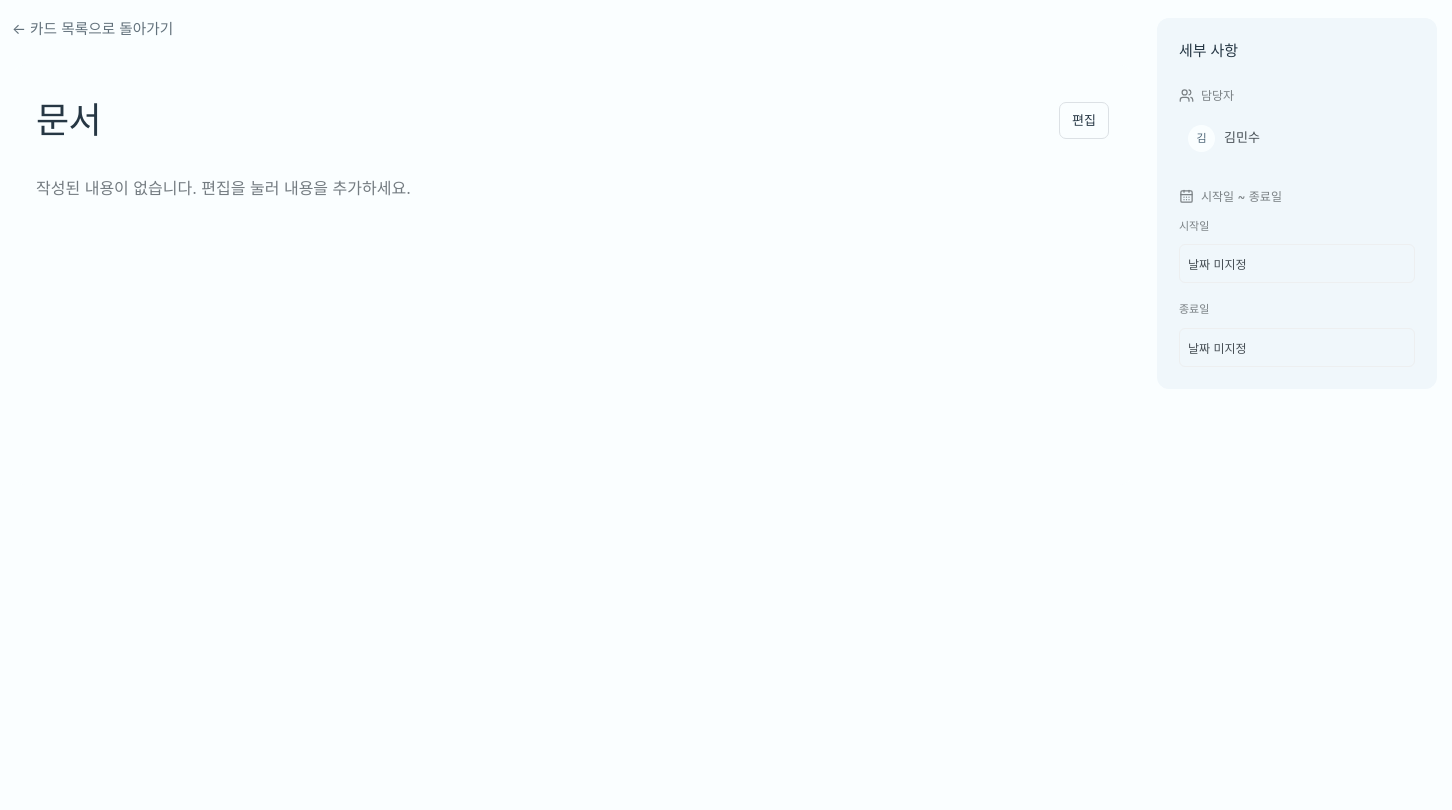
Test: markdown_editor › toolbar_format_기울임_ok
The width and height of the screenshot is (1452, 810).
Click the button "편집".
click(1084, 120)  # box 1059,102 -> 1109,139
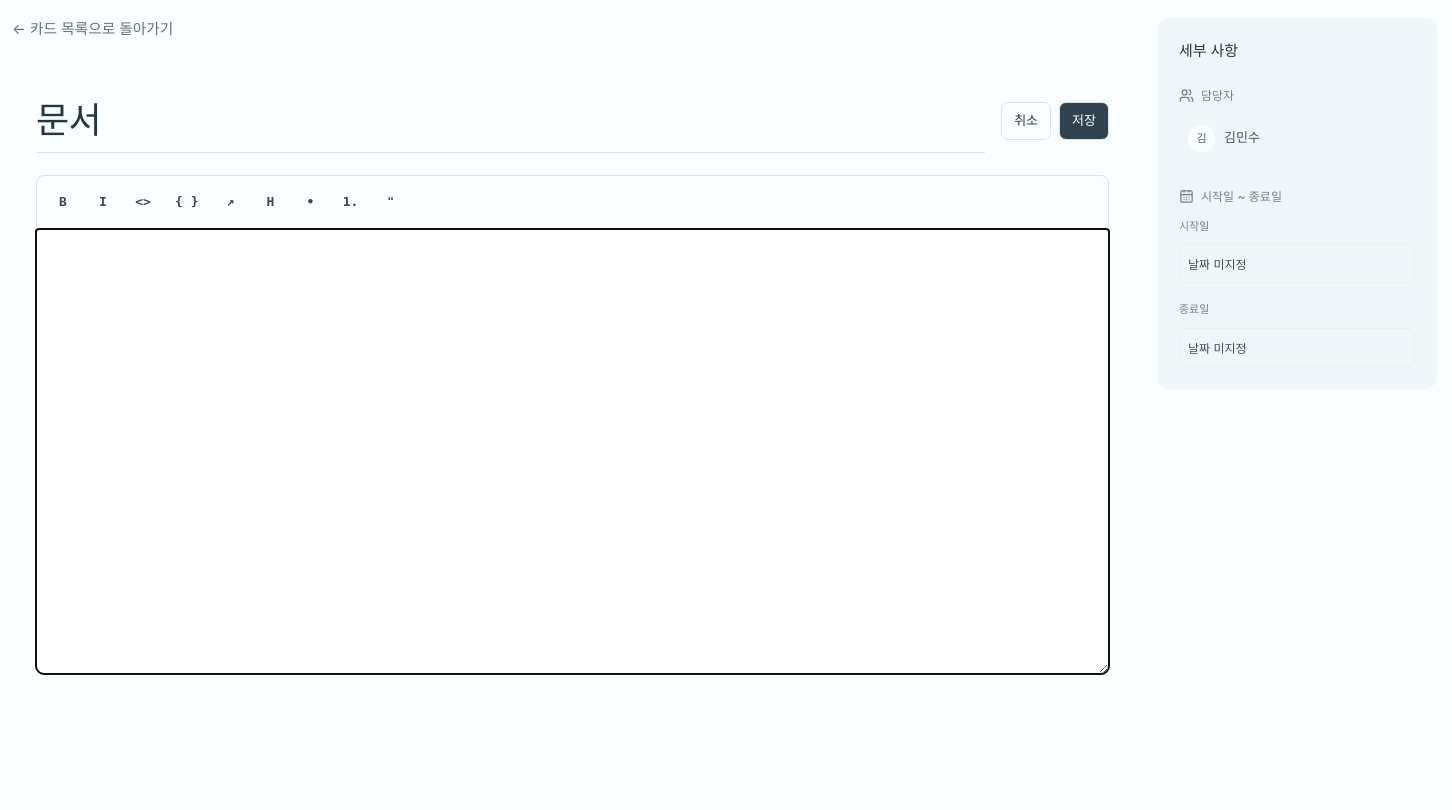
Type "word" into the text box named "Markdown 작성".
click(572, 452); type("word")  # box 36,229 -> 1109,674
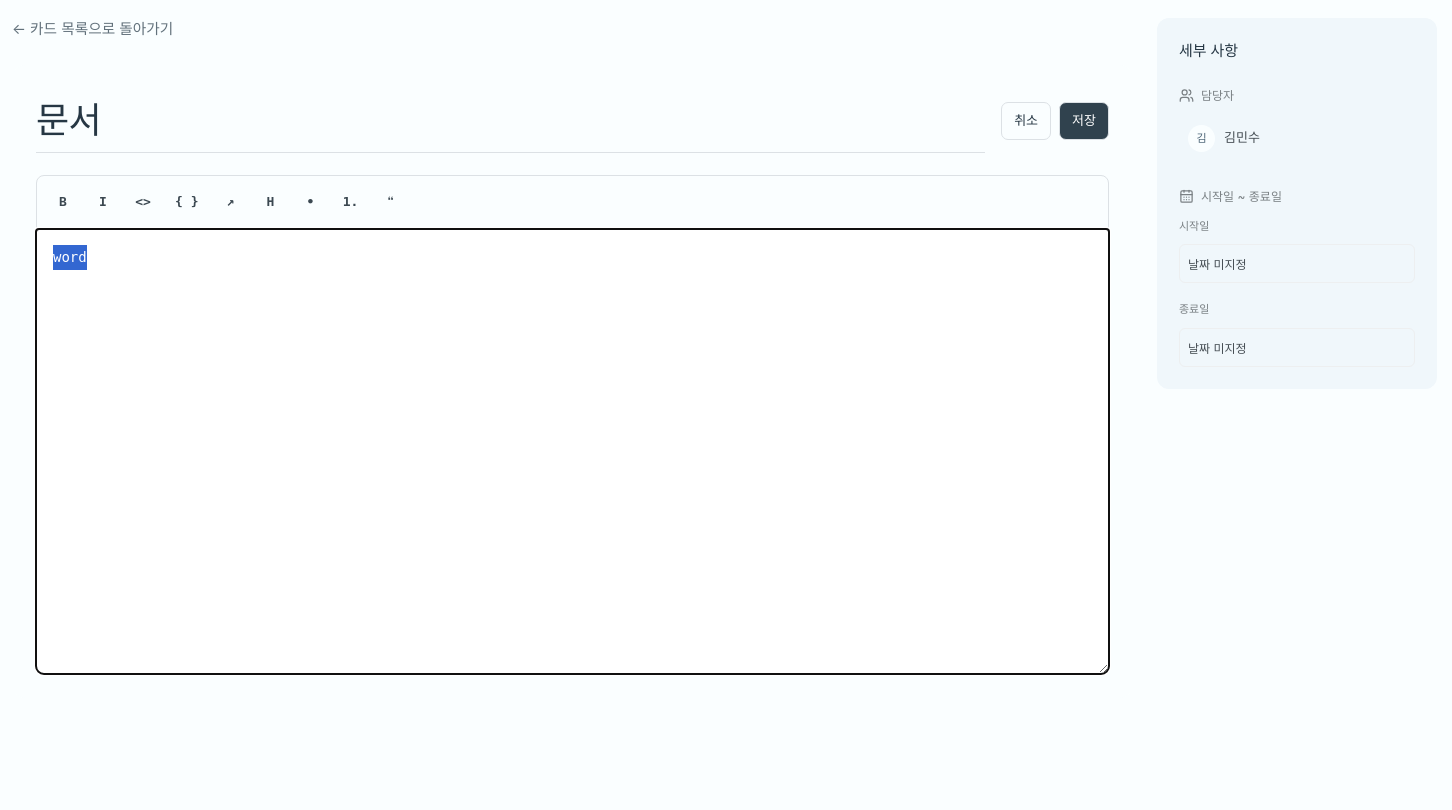
Click the button named "기울임".
click(103, 202)  # box 85,184 -> 121,220
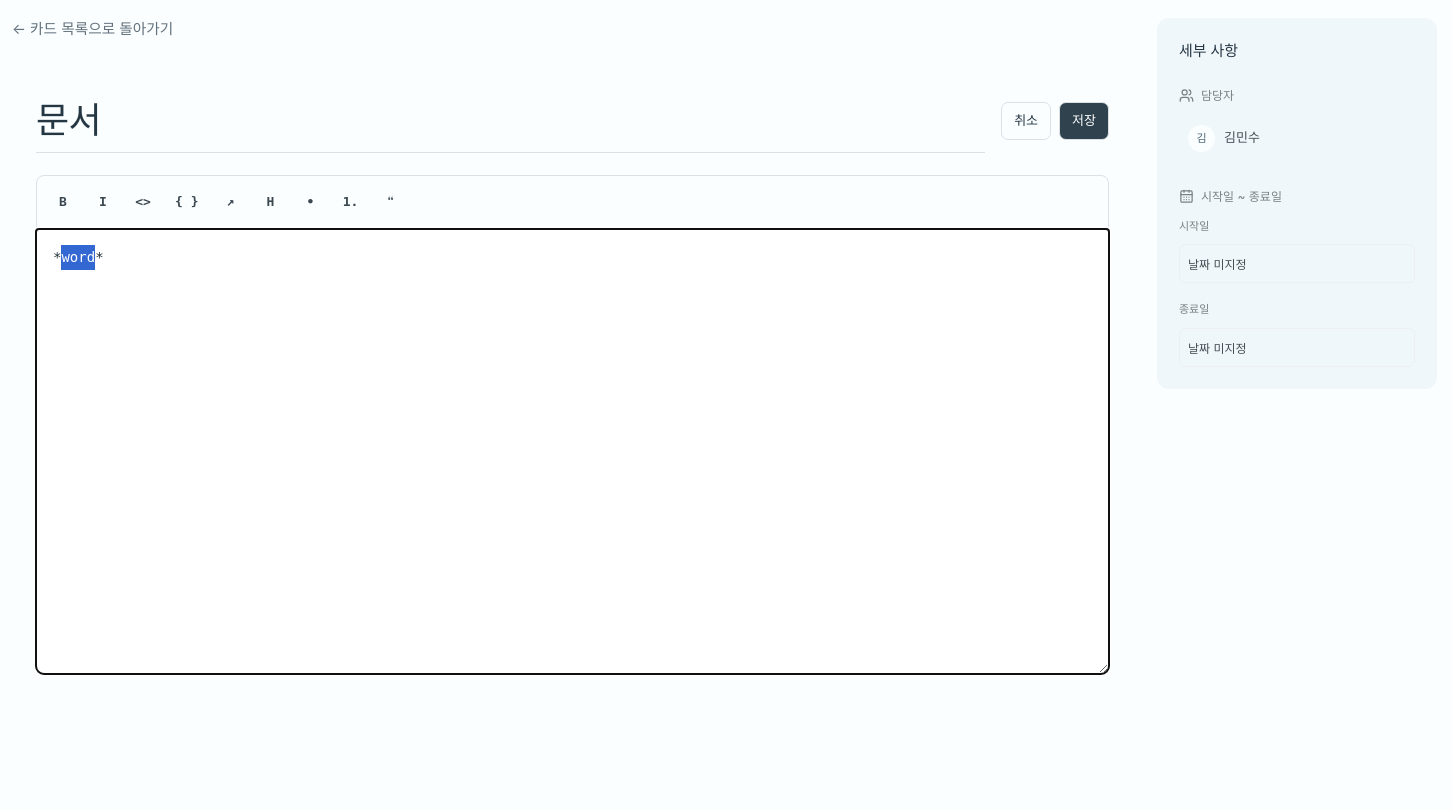
Now the text box named "Markdown 작성" holds "*word*", box 36,229 -> 1109,674
